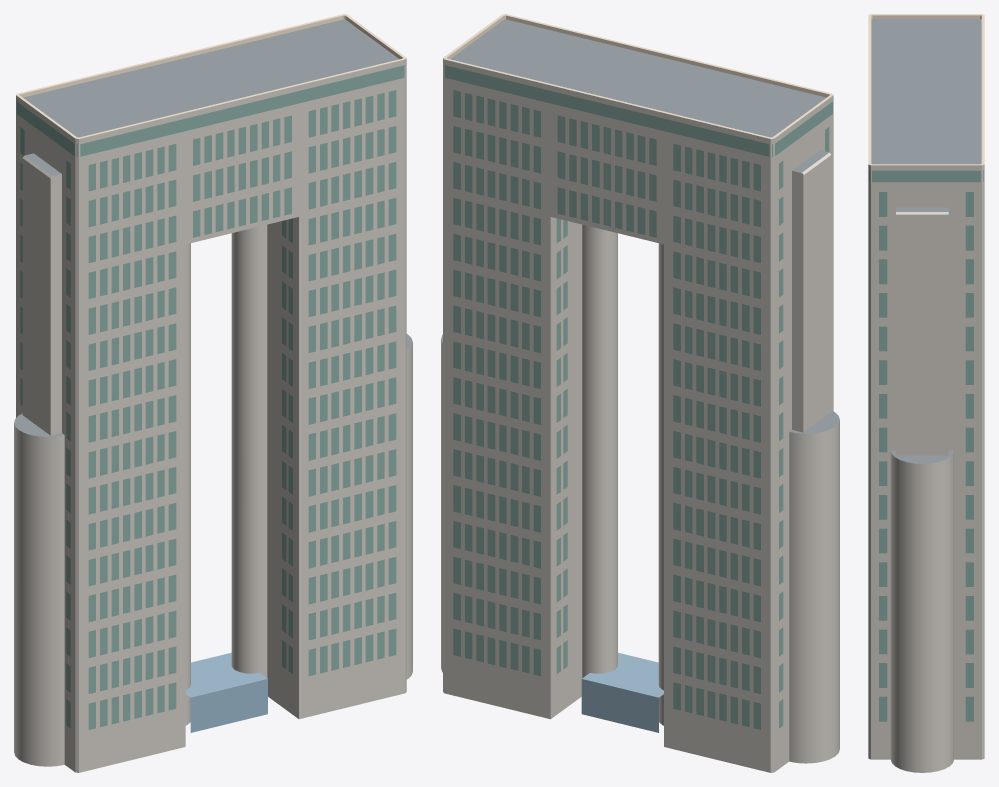
File: mexico-city-arcos-bosques.glb
The picture shows the model from 3 angles, left to right: view 1: azimuth 30°, elevation 25°; view 2: azimuth 150°, elevation 25°; view 3: azimuth 270°, elevation 25°; orthographic projection. The views are drawn at different scales.
Visible parts, largest first — view 1: Torre Arcos Bosques I; view 2: Torre Arcos Bosques I; view 3: Torre Arcos Bosques I.
Part boxes in pixels (x1,y1,x2,y2): Torre Arcos Bosques I: (14, 14, 412, 772); Torre Arcos Bosques I: (441, 14, 839, 772); Torre Arcos Bosques I: (868, 14, 984, 772).
Bounding box in the file's own units: 104 × 162 × 28.7.
